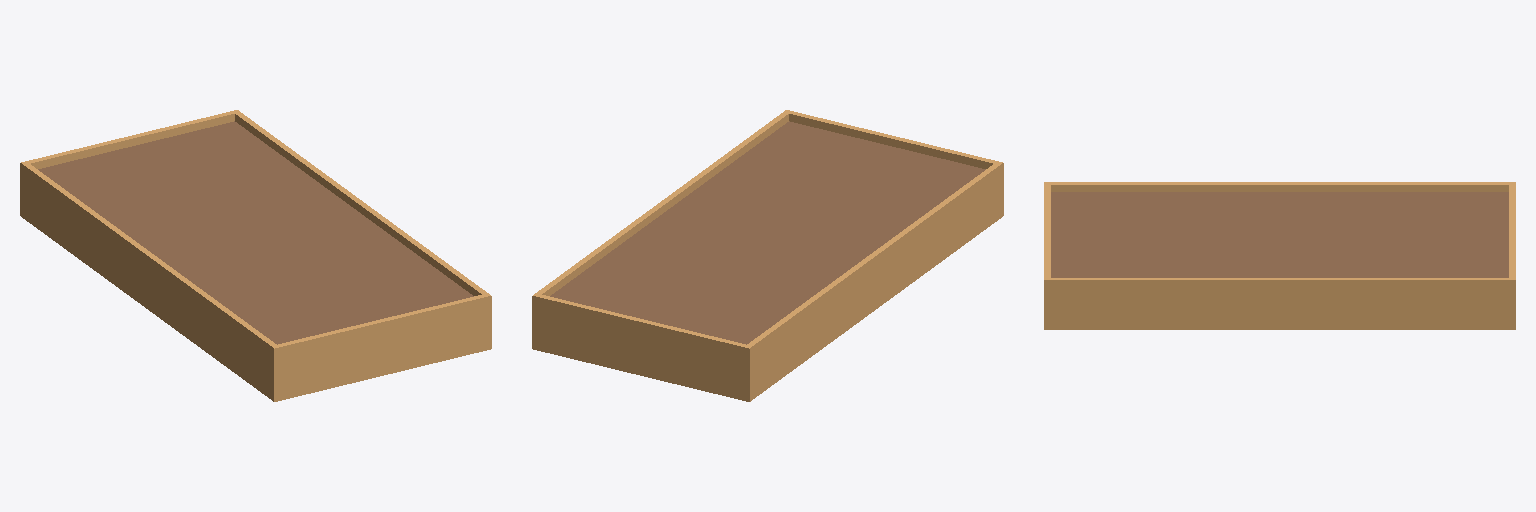
robot.urdf — raised_bed:
<?xml version="1.0"?>
<robot name="raised_bed">
  <link name="raised_bed">
    <visual>
      <geometry>
        <mesh filename="package://farmbot_description/meshes/visual/raised_bed.dae" />
      </geometry>
    </visual>
  </link>
</robot>

--- What the picture shows (computed from the rendered views, not written in the file) ---
3 views of the same robot in one strip: view 1: azimuth 30°, elevation 25°; view 2: azimuth 150°, elevation 25°; view 3: azimuth 270°, elevation 25° (orthographic).
Robot: raised_bed — 1 links, 0 joints (none); root link raised_bed; default pose: all joints at 0.
Visible links, largest first — view 1: raised_bed; view 2: raised_bed; view 3: raised_bed.
Link boxes in pixels (left/top/right/bottom): raised_bed: left=20, top=110, right=491, bottom=401; raised_bed: left=532, top=110, right=1003, bottom=401; raised_bed: left=1044, top=182, right=1515, bottom=329.
Size in the robot's own frame: 1.48 by 3 by 0.35 metres.
Meshes: 1 distinct files referenced, 1 mesh visuals loaded (1 Collada DAE).